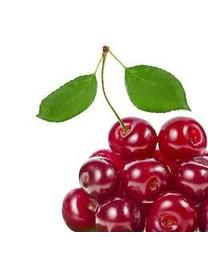cherry: (119, 159, 172, 204), (156, 117, 207, 161), (108, 117, 157, 162), (145, 192, 198, 230), (78, 155, 121, 201), (95, 197, 144, 231), (172, 160, 207, 205), (62, 187, 99, 229)
